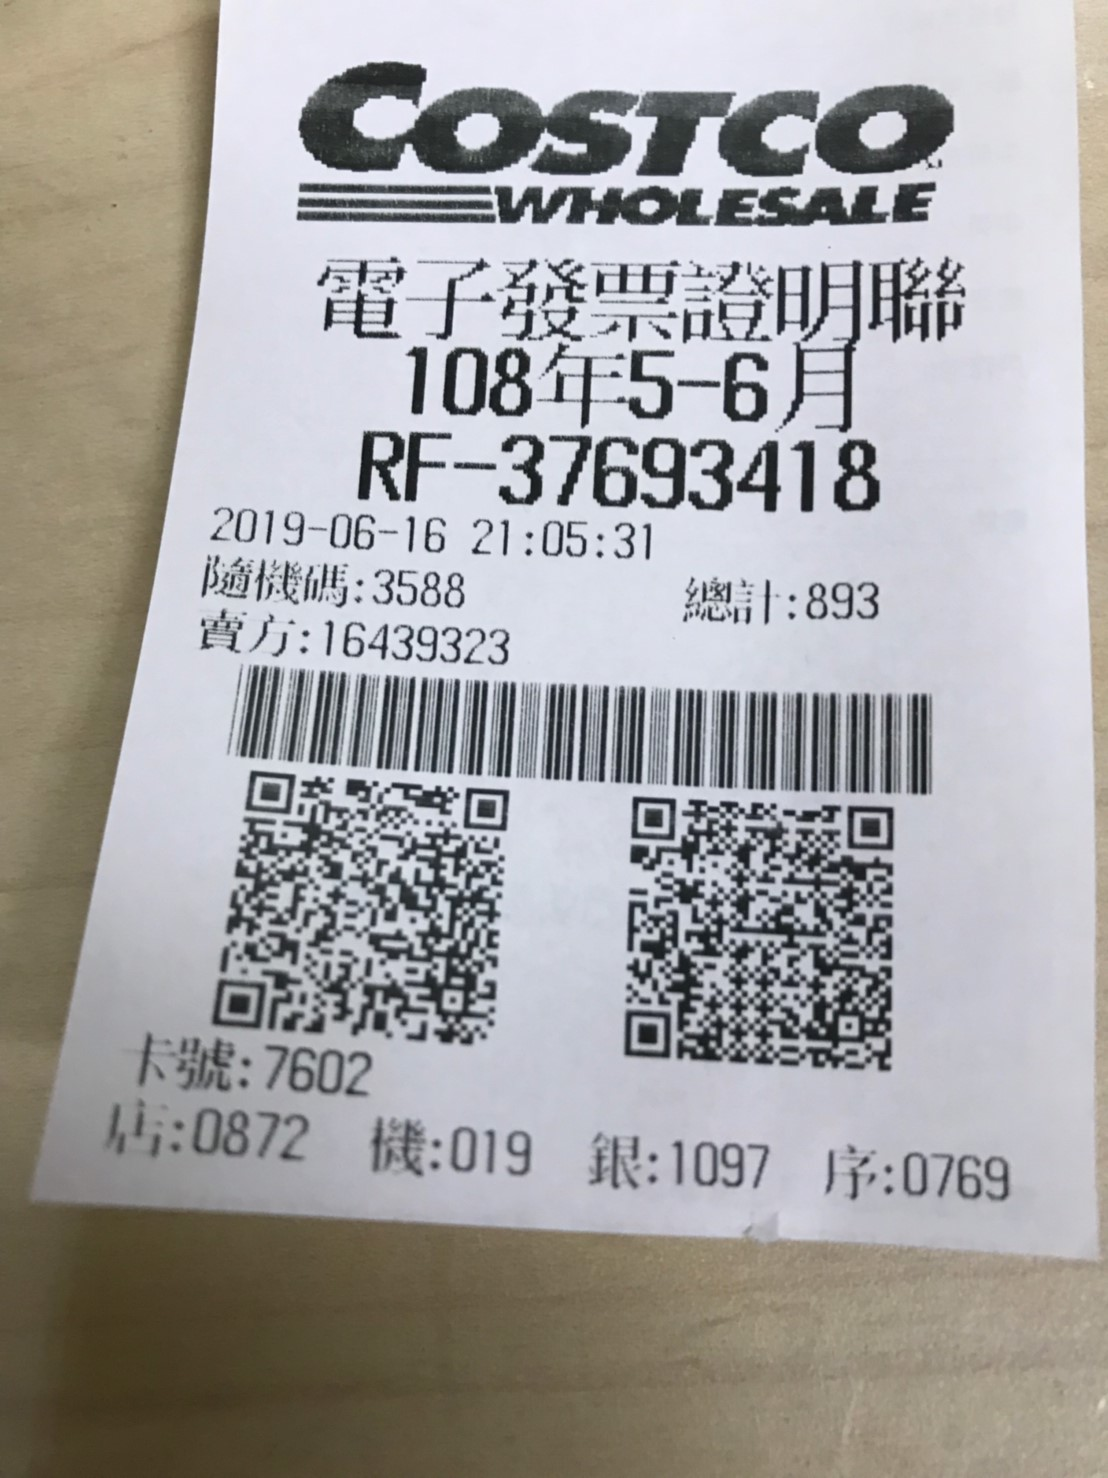Date_New: (400, 341, 859, 429)
Number_New: (498, 434, 882, 510)
